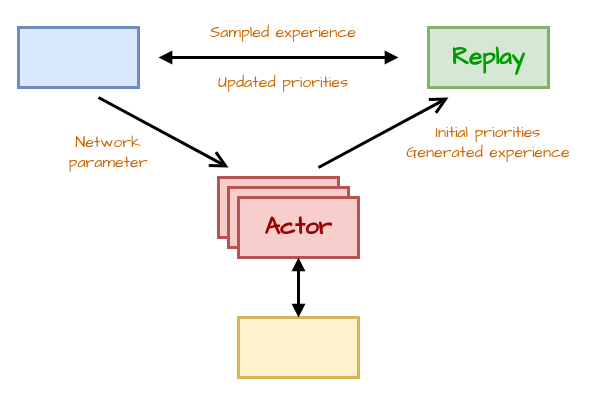
Image size: 606x396. Some labels were removed from this diagram. The box of each missing label's shape, as (x1, y1, x2, y2) in pixels:
Enviorment: (236, 316, 360, 378)
Learner: (16, 26, 140, 88)
